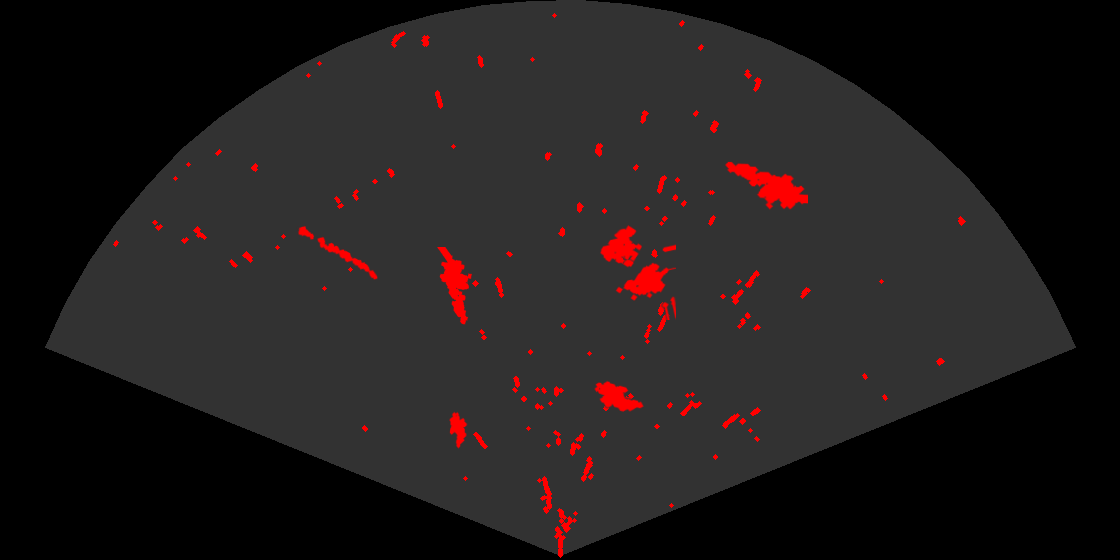AUV: (593, 379, 645, 413), (448, 410, 468, 450)
cage: (599, 224, 676, 320)
chain: (296, 224, 379, 281)
frogman: (724, 160, 808, 211), (436, 247, 474, 326)
